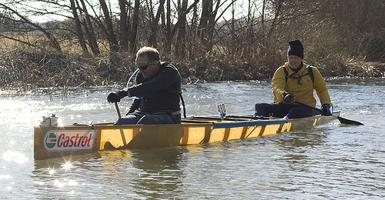person: (107, 46, 183, 126)
